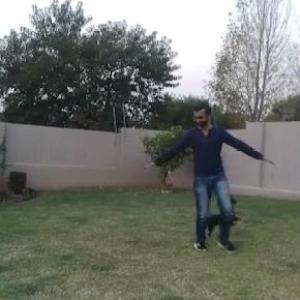land: (134, 103, 242, 232)
